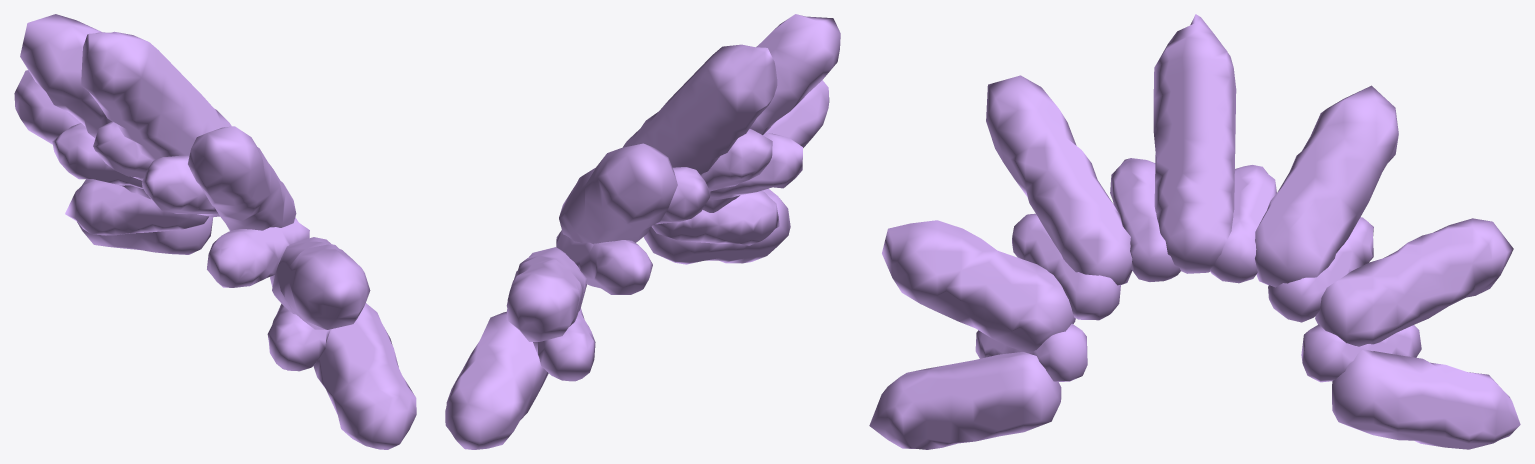
File: triceratops_gems_baby.glb
3 renders of one model, left to right at view 1: azimuth 30°, elevation 25°; view 2: azimuth 150°, elevation 25°; view 3: azimuth 270°, elevation 25°, orthographic. The views are drawn at different scales.
Visible parts, largest first — view 1: gem; view 2: gem; view 3: gem.
Part boxes in pixels (x1,y1,x2,y2): gem: (14,14,416,449); gem: (445,14,840,449); gem: (869,14,1520,449).
Bounding box in the file's own units: 0.5616 × 0.894 × 1.47.
